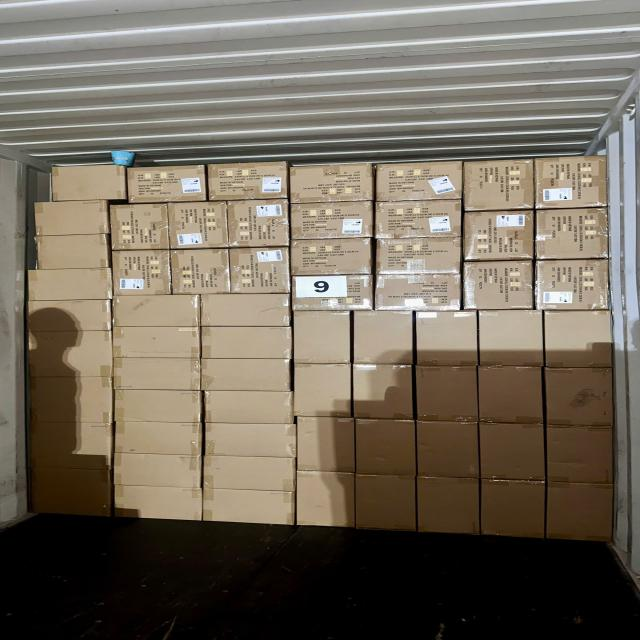Carton: (114, 422, 202, 523), (201, 455, 294, 527), (25, 374, 114, 426), (112, 447, 202, 496), (544, 364, 612, 426), (31, 467, 112, 519), (548, 481, 614, 544), (29, 330, 113, 378), (481, 478, 546, 540), (480, 420, 547, 480), (479, 363, 547, 422), (543, 312, 612, 370), (372, 198, 467, 240), (479, 311, 546, 370), (547, 428, 614, 487), (29, 421, 113, 468), (535, 158, 607, 212), (464, 161, 536, 214), (536, 208, 610, 259), (352, 472, 414, 532), (416, 475, 478, 535), (354, 417, 416, 477), (416, 419, 479, 478), (534, 260, 608, 310), (296, 469, 356, 530), (372, 164, 460, 205), (414, 367, 477, 424), (416, 312, 480, 368), (461, 210, 534, 259), (110, 387, 205, 424), (289, 164, 372, 206), (203, 388, 294, 426), (463, 262, 535, 310), (352, 362, 412, 419), (297, 416, 357, 473), (352, 312, 413, 368), (209, 161, 290, 203), (374, 237, 463, 275), (291, 361, 351, 417), (199, 325, 292, 361), (111, 486, 203, 522), (375, 273, 461, 311), (203, 422, 296, 457), (292, 312, 351, 366), (199, 357, 292, 391), (293, 201, 376, 239), (112, 421, 202, 456), (199, 292, 291, 326), (293, 274, 375, 312), (127, 165, 205, 204), (48, 165, 130, 202), (112, 326, 201, 360), (225, 200, 288, 248), (294, 241, 376, 277), (30, 269, 113, 303), (111, 204, 171, 251), (170, 249, 230, 296), (228, 250, 289, 296), (28, 298, 113, 331), (117, 358, 204, 390), (36, 200, 111, 237), (172, 201, 231, 248), (116, 294, 202, 326), (113, 252, 171, 298), (36, 233, 111, 268)
